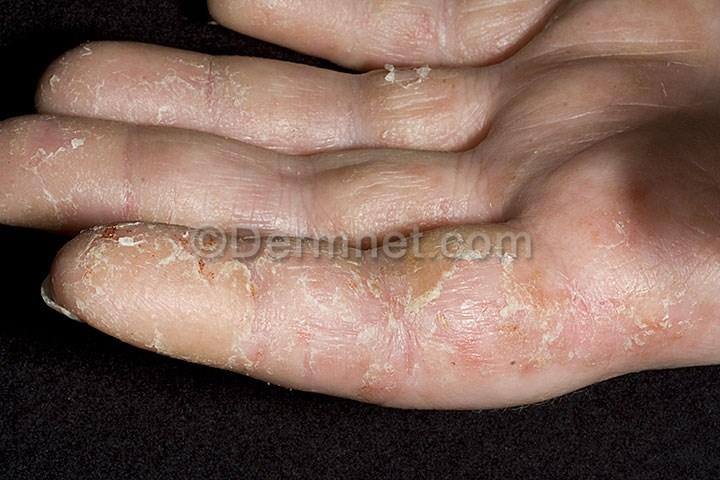Eczema: (467, 229, 546, 369), (543, 238, 623, 373), (352, 251, 426, 373), (421, 237, 484, 375), (279, 249, 356, 358), (150, 237, 225, 333), (223, 243, 287, 348), (70, 240, 150, 323), (0, 119, 89, 180), (264, 175, 343, 241), (662, 271, 716, 362), (619, 282, 676, 367), (444, 154, 515, 221), (319, 1, 396, 60), (148, 126, 222, 185), (608, 173, 662, 253), (166, 101, 268, 143), (0, 151, 53, 225), (211, 179, 273, 239), (334, 363, 411, 410), (64, 48, 144, 93), (150, 50, 209, 111), (404, 167, 462, 228), (270, 101, 343, 148), (396, 91, 453, 148), (53, 182, 114, 235), (457, 0, 519, 52), (208, 49, 257, 112), (346, 179, 395, 239), (398, 0, 451, 55), (341, 102, 402, 148), (46, 72, 109, 115), (160, 179, 212, 231), (219, 142, 281, 184), (88, 121, 136, 175), (242, 0, 314, 32), (114, 178, 158, 228), (375, 66, 457, 92), (290, 156, 353, 187), (457, 103, 501, 139), (113, 89, 168, 117), (353, 151, 399, 182), (517, 0, 548, 25)
